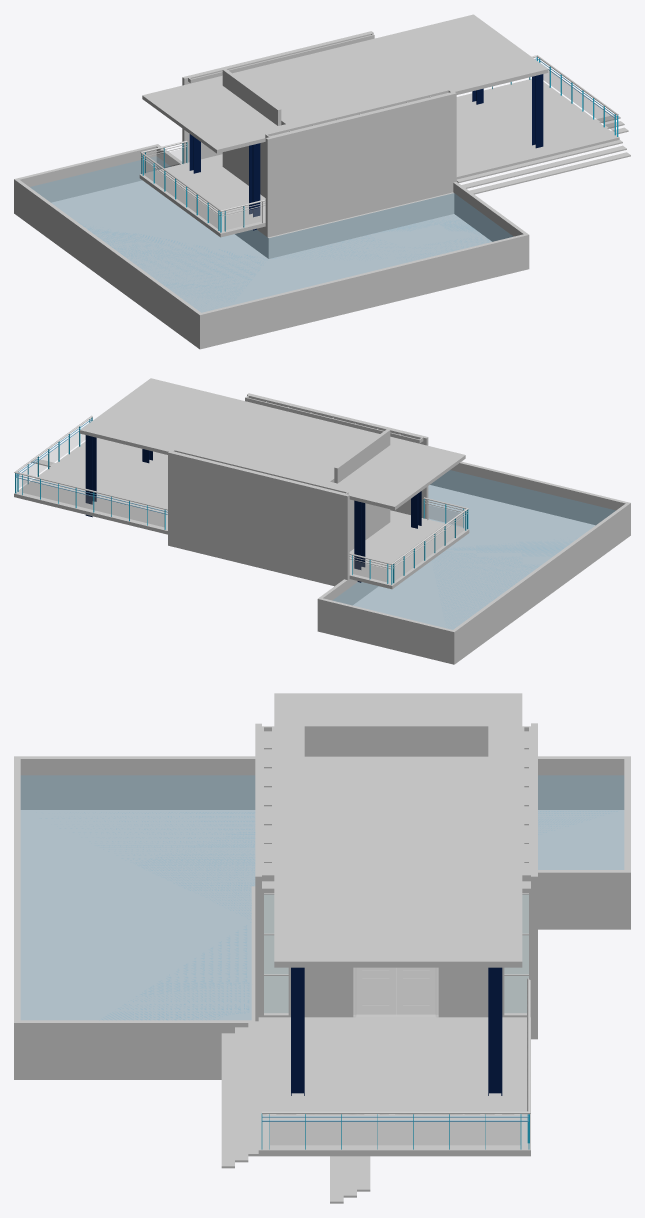
File: maqueta.glb
3 renders of one model, top to bottom at view 1: azimuth 30°, elevation 25°; view 2: azimuth 150°, elevation 25°; view 3: azimuth 270°, elevation 25°, orthographic. The views are drawn at different scales.
Visible parts, largest first — view 1: Floor Agua [358365], Basic Roof Losa en concreto [359660], Floor Base lago [357232], Basic Wall Muro Exterior [357606], Basic Wall Muro bajo [357047], Floor Piso en madera [353803], Basic Wall Muro bajo [356875], Floor Piso interior [353057], Basic Wall Muro bajo [352691], Basic Wall Muro bajo [356699], Non-Monolithic Run 50mm Tread 13mm Riser [355051], Basic Wall Muro Exterior - Exposiciones [352747] (+6 smaller); view 2: Basic Roof Losa en concreto [359660], Floor Agua [358365], Basic Wall Muro Exterior [352627], Floor Base lago [357232], Floor Piso en madera [353803], Basic Wall Muro bajo [356875], Basic Wall Muro bajo [357047], Basic Wall Muro bajo [356699], Floor Piso interior [353057], Basic Wall Muro Exterior - Exposiciones [352747], Basic Wall Muro bajo [356565], Basic Wall Muro Exterior [357606] (+6 smaller); view 3: Floor Agua [358365], Basic Roof Losa en concreto [359660], Floor Base lago [357232], Floor Piso en madera [353803], Basic Wall Muro bajo [356875], Basic Wall Muro bajo [357155], Floor Piso interior [353057], Basic Wall Muro Exterior - Exposiciones [352747], Basic Wall Muro bajo [356565], Non-Monolithic Run 50mm Tread 13mm Riser [355051], Basic Wall Muro Exterior [374805], M_Door-Exterior-Double-Two_Lite-Personal M_Door-Exterior-Dou (+18 smaller).
Boxes of the visible parts, left/top/right/bottom form: Floor Agua [358365]: left=30, top=160, right=512, bottom=312; Basic Roof Losa en concreto [359660]: left=142, top=14, right=548, bottom=153; Floor Base lago [357232]: left=51, top=180, right=491, bottom=312; Basic Wall Muro Exterior [357606]: left=265, top=92, right=456, bottom=237; Basic Wall Muro bajo [357047]: left=202, top=233, right=529, bottom=348; Floor Piso en madera [353803]: left=456, top=78, right=619, bottom=179; Basic Wall Muro bajo [356875]: left=16, top=180, right=203, bottom=349; Floor Piso interior [353057]: left=139, top=154, right=265, bottom=237; Basic Wall Muro bajo [352691]: left=271, top=192, right=454, bottom=257; Basic Wall Muro bajo [356699]: left=14, top=145, right=156, bottom=214; Non-Monolithic Run 50mm Tread 13mm Riser [355051]: left=456, top=140, right=630, bottom=194; Basic Wall Muro Exterior - Exposiciones [352747]: left=222, top=69, right=281, bottom=197; Basic Roof Losa en concreto [359660]: left=80, top=378, right=465, bottom=510; Floor Agua [358365]: left=333, top=470, right=614, bottom=629; Basic Wall Muro Exterior [352627]: left=168, top=451, right=349, bottom=588; Floor Base lago [357232]: left=353, top=485, right=595, bottom=629; Floor Piso en madera [353803]: left=14, top=438, right=167, bottom=534; Basic Wall Muro bajo [356875]: left=453, top=502, right=630, bottom=662; Basic Wall Muro bajo [357047]: left=430, top=461, right=627, bottom=525; Basic Wall Muro bajo [356699]: left=321, top=598, right=456, bottom=664; Floor Piso interior [353057]: left=349, top=510, right=469, bottom=589; Basic Wall Muro Exterior - Exposiciones [352747]: left=334, top=429, right=390, bottom=551; Basic Wall Muro bajo [356565]: left=317, top=579, right=378, bottom=632; Basic Wall Muro Exterior [357606]: left=247, top=393, right=428, bottom=519; Floor Agua [358365]: left=21, top=776, right=623, bottom=1019; Basic Roof Losa en concreto [359660]: left=274, top=693, right=522, bottom=967; Floor Base lago [357232]: left=20, top=810, right=624, bottom=1020; Floor Piso en madera [353803]: left=258, top=1017, right=530, bottom=1156; Basic Wall Muro bajo [356875]: left=14, top=756, right=624, bottom=809; Basic Wall Muro bajo [357155]: left=20, top=1020, right=255, bottom=1079; Floor Piso interior [353057]: left=262, top=881, right=530, bottom=1017; Basic Wall Muro Exterior - Exposiciones [352747]: left=304, top=723, right=488, bottom=756; Basic Wall Muro bajo [356565]: left=251, top=870, right=630, bottom=929; Non-Monolithic Run 50mm Tread 13mm Riser [355051]: left=221, top=1021, right=261, bottom=1168; Basic Wall Muro Exterior [374805]: left=304, top=967, right=488, bottom=1017; M_Door-Exterior-Double-Two_Lite-Personal M_Door-Exterior-Dou: left=353, top=968, right=438, bottom=1017.
Bounding box in the file's own units: 22.37 × 5.5 × 13.75.
